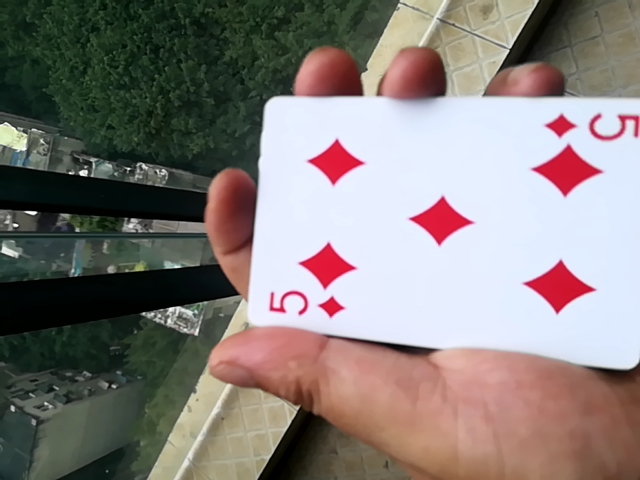fk 5: (213, 95, 636, 361)
